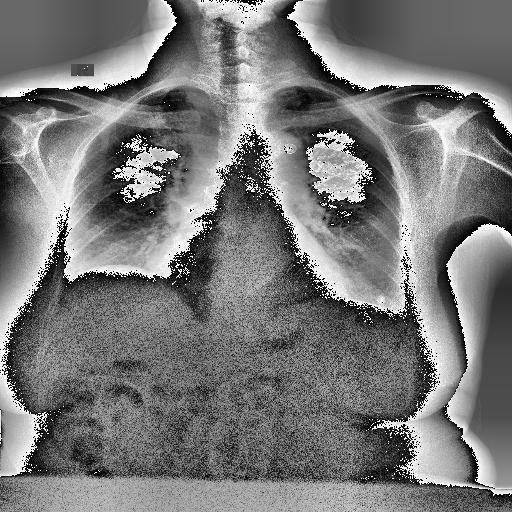0- Aortic enlargement: (250, 130, 308, 196), (258, 131, 310, 187), (260, 132, 308, 180)
3- Cardiomegaly: (144, 240, 350, 301), (146, 248, 352, 302)
8- Nodule-Mass: (376, 295, 386, 305)
9- Other lesion: (372, 294, 388, 304)
